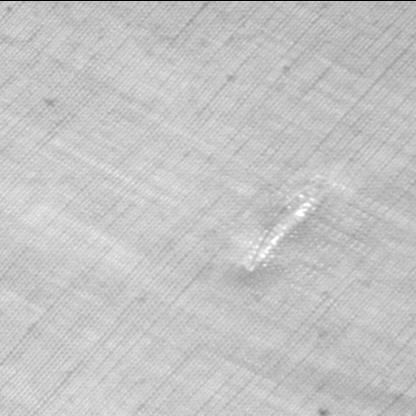hole: (233, 175, 334, 278)
